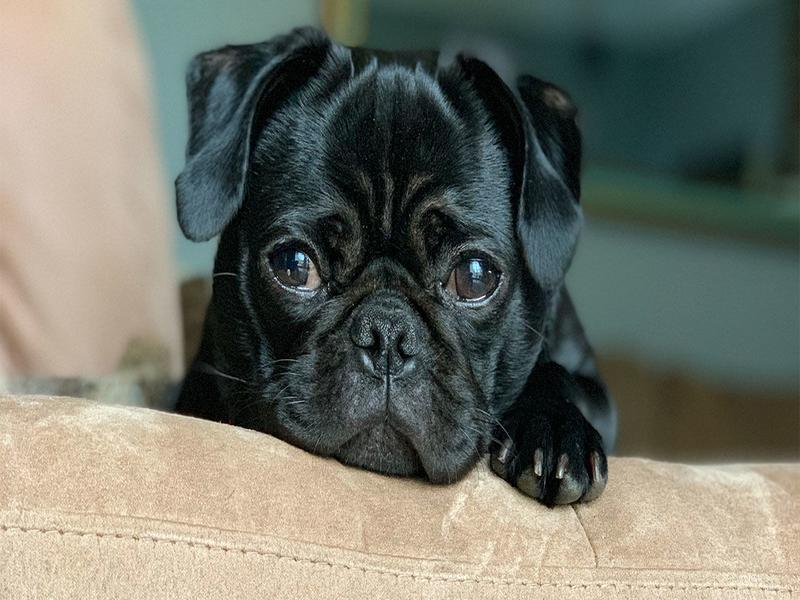dog: (173, 26, 636, 513)
